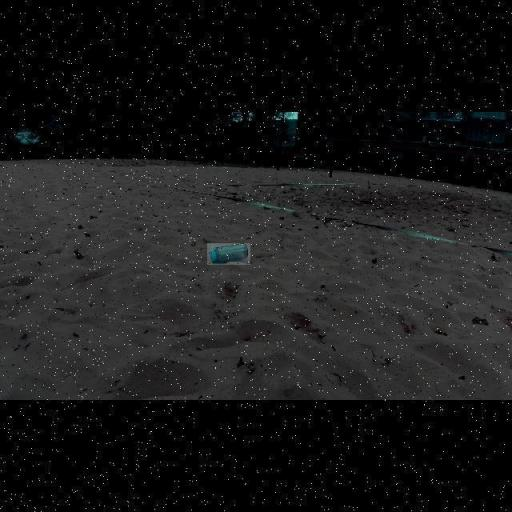bottle: (206, 243, 250, 265)
